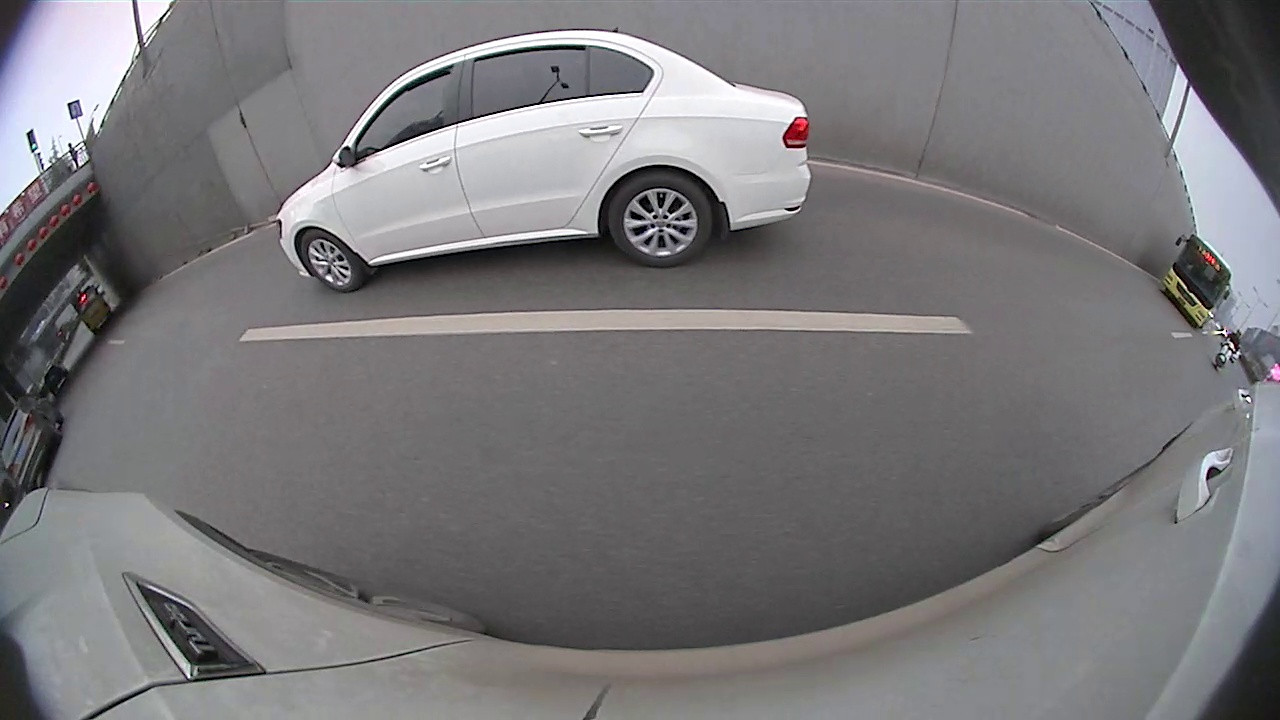bus: (1074, 180, 1279, 377), (915, 118, 1021, 230)
car: (0, 155, 388, 517), (494, 150, 575, 206)
front: (312, 221, 379, 306), (1128, 268, 1165, 314)
rear: (6, 386, 129, 519), (625, 149, 685, 237)
rider: (1235, 348, 1279, 395)
truck: (583, 3, 1003, 238)
